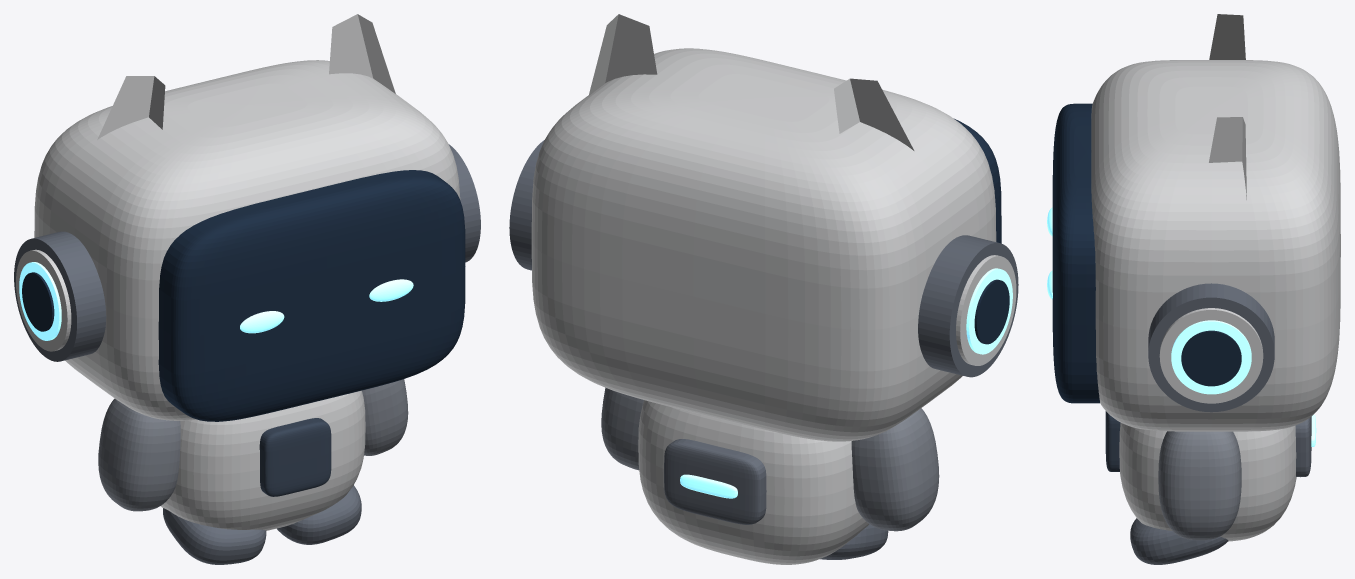
The model's file is kuma_mini.glb.
3 views of the same model, side by side, from view 1: azimuth 30°, elevation 25°; view 2: azimuth 150°, elevation 25°; view 3: azimuth 270°, elevation 25° (orthographic). The views are drawn at different scales.
Visible parts, largest first — view 1: FaceGlass, HeadShell, Torso, Arm_L, Pod_L_0, ChestBadge, Foot_L, Ear_R, Arm_R, Ear_L, Foot_R, Pod_L_1 (+5 smaller); view 2: HeadShell, Torso, Arm_L, Pod_L_0, RearPanel, Ear_R, Ear_L, Arm_R, Pod_L_1, Pod_R_0, Pod_L_3, Pod_L_2 (+3 smaller); view 3: HeadShell, FaceGlass, Torso, Arm_R, Pod_R_0, Pod_R_1, Pod_R_3, Foot_R, Pod_R_2, Ear_R, Ear_L, RearPanel (+1 smaller).
Part boxes in pixels (x1,y1,x2,y2): FaceGlass: (158, 170, 465, 421); HeadShell: (34, 60, 460, 420); Torso: (161, 390, 365, 530); Arm_L: (98, 398, 180, 511); Pod_L_0: (14, 231, 106, 361); ChestBadge: (259, 418, 331, 496); Foot_L: (163, 508, 266, 564); Ear_R: (329, 14, 395, 93); Arm_R: (362, 379, 408, 455); Ear_L: (97, 76, 165, 139); Foot_R: (277, 485, 361, 544); Pod_L_1: (16, 249, 71, 351); HeadShell: (531, 48, 996, 441); Torso: (638, 400, 869, 564); Arm_L: (851, 408, 939, 531); Pod_L_0: (918, 235, 1018, 377); RearPanel: (664, 439, 766, 524); Ear_R: (588, 14, 657, 96); Ear_L: (834, 78, 914, 150); Arm_R: (601, 387, 643, 470); Pod_L_1: (956, 255, 1016, 365); Pod_R_0: (509, 140, 544, 270); Pod_L_3: (974, 279, 1009, 344); Pod_L_2: (966, 268, 1012, 354); HeadShell: (1091, 60, 1340, 431); FaceGlass: (1052, 103, 1099, 403); Torso: (1119, 423, 1296, 541); Arm_R: (1158, 431, 1241, 540); Pod_R_0: (1148, 283, 1274, 412); Pod_R_1: (1159, 308, 1263, 403); Pod_R_3: (1181, 330, 1241, 386); Foot_R: (1130, 518, 1228, 564); Pod_R_2: (1171, 320, 1251, 394); Ear_R: (1209, 117, 1246, 199); Ear_L: (1209, 14, 1245, 59); RearPanel: (1295, 416, 1311, 477).
Bounding box in the file's own units: 169 × 182 × 102.
